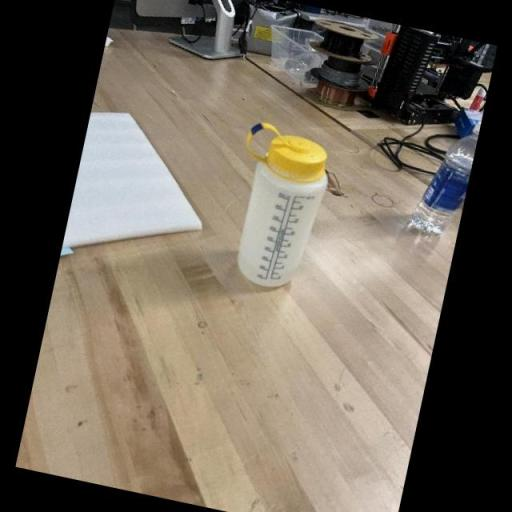bottle: (216, 119, 338, 295)
